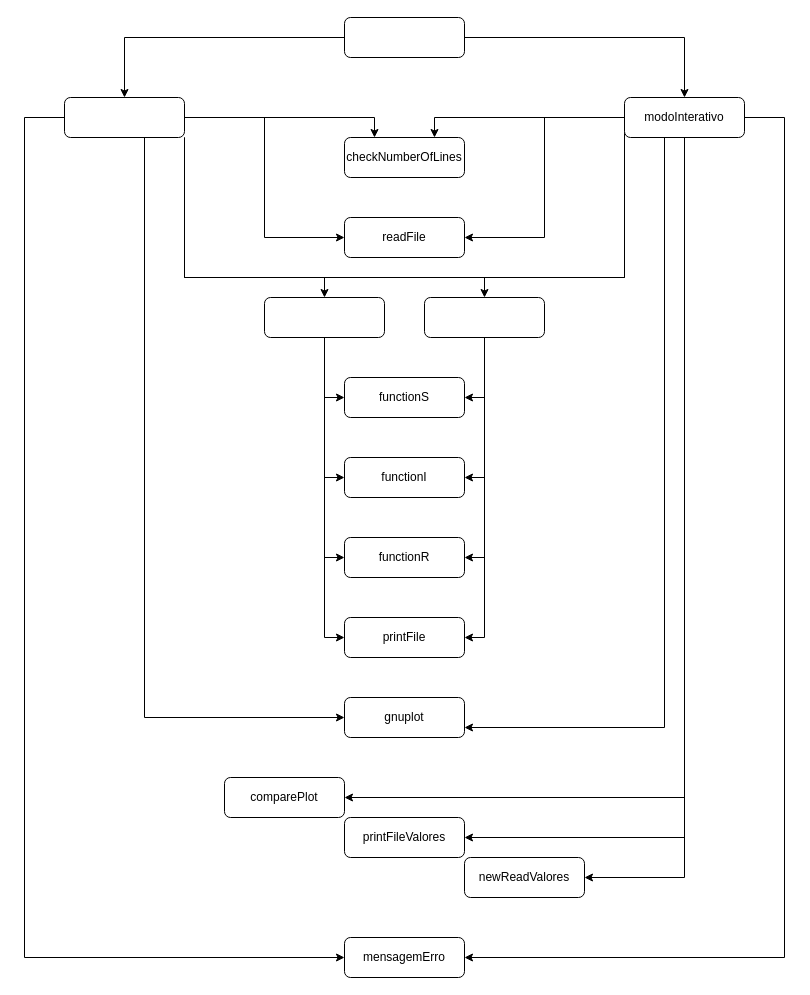
The diagram is 810 pixels wide and 995 high, and some of its shapes have lost their labels. Each missing label, with the centre of its shape:
"Euler" belongs at [324,317].
"main" belongs at [404,37].
"modoNaoInterativo" belongs at [124,117].
"Runge_Kutta" belongs at [484,317].
